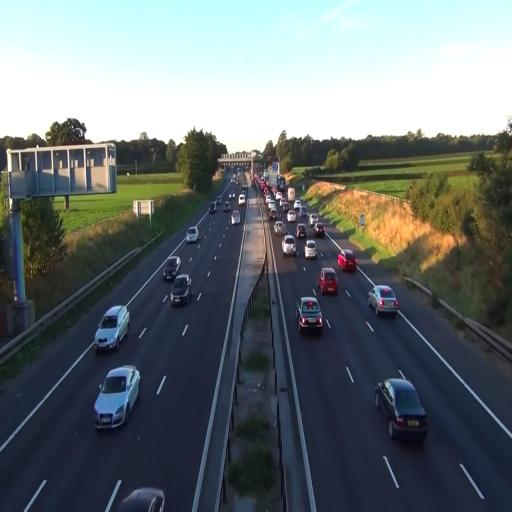vehicle: (374, 374, 428, 444), (94, 365, 140, 431), (94, 304, 131, 354), (110, 484, 164, 511), (369, 284, 399, 318), (298, 296, 322, 330), (171, 274, 191, 307), (316, 268, 338, 296), (162, 255, 181, 283), (336, 250, 358, 274), (282, 234, 296, 256), (304, 240, 318, 259), (186, 227, 198, 243), (231, 211, 239, 225)
